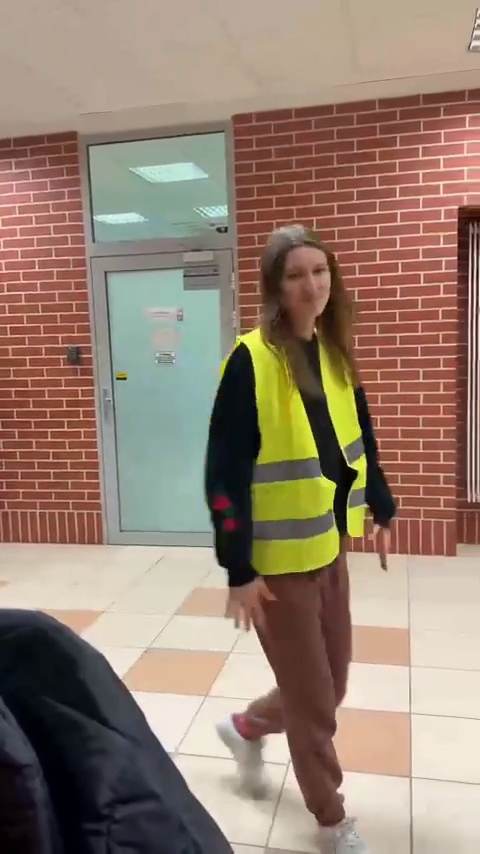vest: (213, 214, 408, 812)
